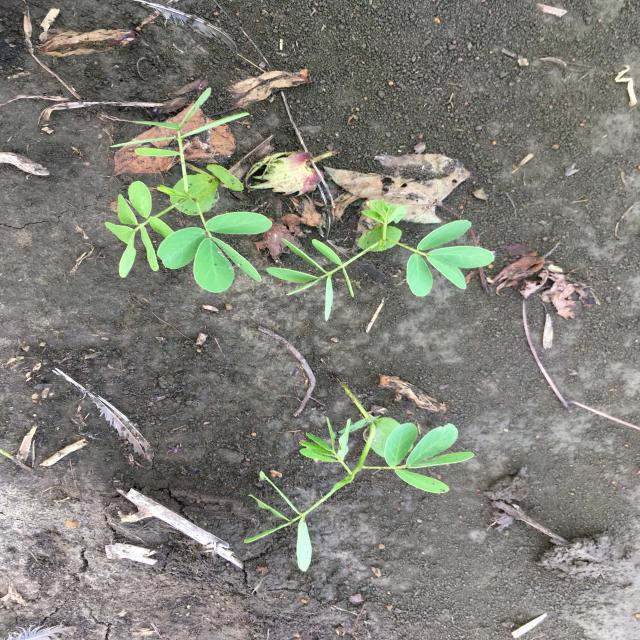Sicklepod: (241, 379, 478, 574), (102, 87, 275, 292), (266, 196, 498, 323)
